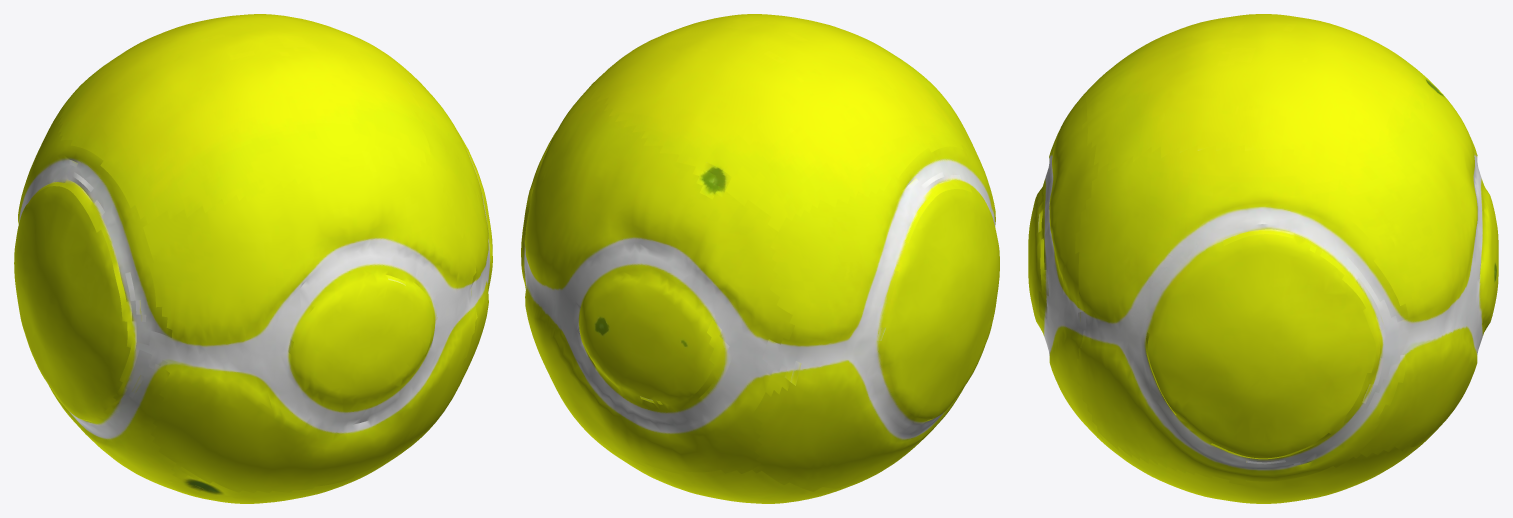
File: padel-ball.glb
3 views of the same model, side by side, from view 1: azimuth 30°, elevation 25°; view 2: azimuth 150°, elevation 25°; view 3: azimuth 270°, elevation 25° (orthographic).
Visible parts, largest first — view 1: Mesh_0; view 2: Mesh_0; view 3: Mesh_0.
Part boxes in pixels (x1,y1,x2,y2): Mesh_0: (14, 14, 492, 503); Mesh_0: (521, 14, 999, 503); Mesh_0: (1028, 14, 1498, 503).
Bounding box in the file's own units: 0.9686 × 1 × 0.9602.
Materials: 1 (1 with a texture image).
